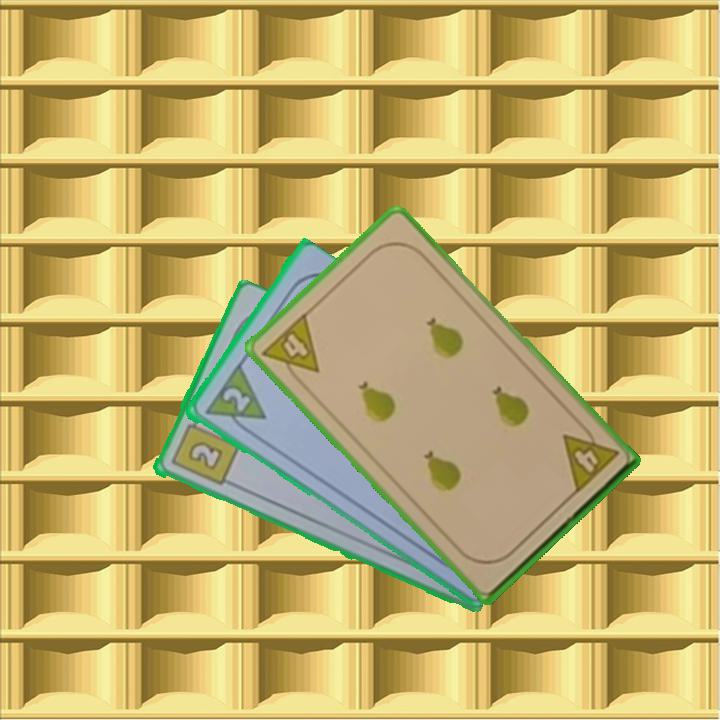2b: (167, 412, 241, 489)
2p: (218, 383, 253, 415)
4p: (258, 309, 322, 390), (558, 418, 621, 497)
